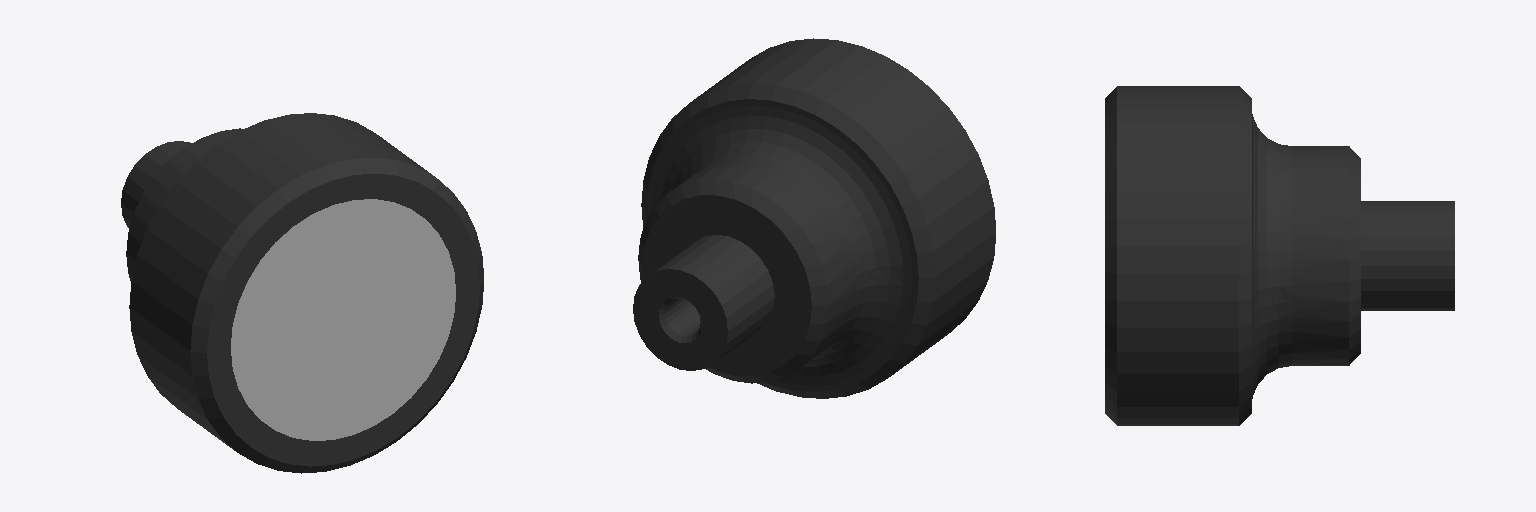
The picture shows the model from 3 angles: view 1: azimuth 30°, elevation 25°; view 2: azimuth 150°, elevation 25°; view 3: azimuth 270°, elevation 25°; orthographic projection.
Parts seen in each view (by area): view 1: gn_3663-42-m6-2_1; view 2: gn_3663-42-m6-2_1; view 3: gn_3663-42-m6-2_1.
Part boxes in pixels (x1,y1,x2,y2): gn_3663-42-m6-2_1: (121,113,483,473); gn_3663-42-m6-2_1: (633,38,995,398); gn_3663-42-m6-2_1: (1105,86,1454,425).
Size of the model in its own units: 41.7 by 41.56 by 43.